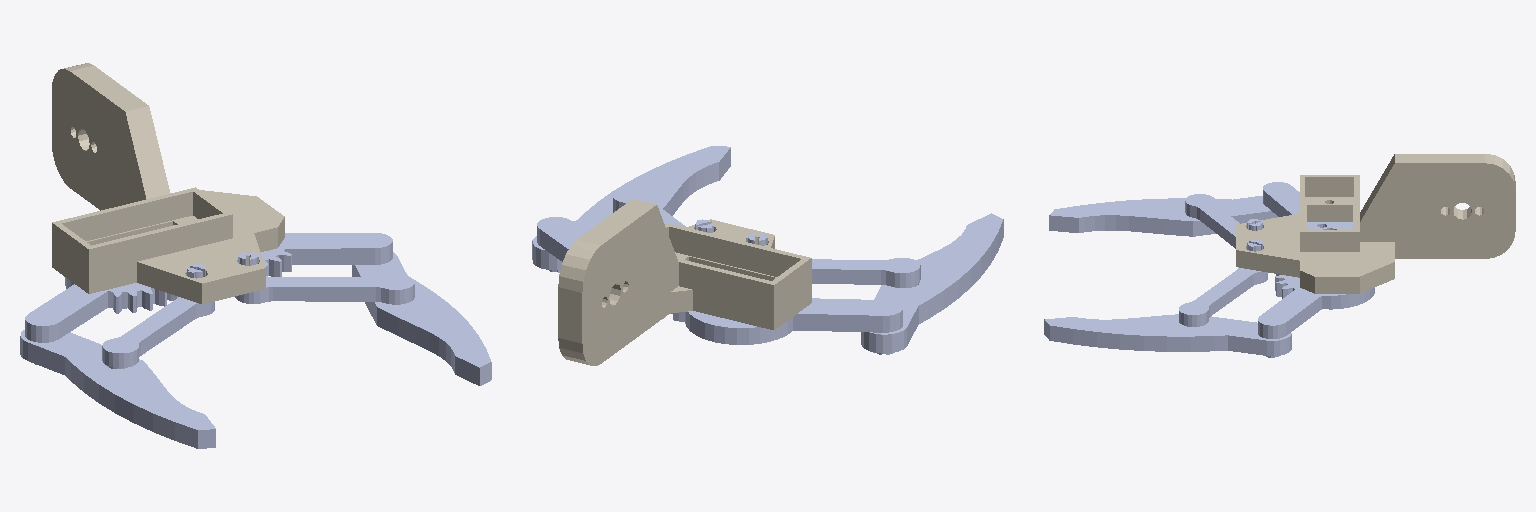
URDF robot description (Gripper_assem_v7):
<?xml version="1.0" encoding="utf-8"?>
<!-- This URDF was automatically created by SolidWorks to URDF Exporter! Originally created by Stephen Brawner (brawner@gmail.com) 
     Commit Version: 1.6.0-4-g7f85cfe  Build Version: 1.6.7995.38578
     For more information, please see http://wiki.ros.org/sw_urdf_exporter -->
<robot
  name="Gripper_assem_v7">
  <link
    name="base_link">
    <inertial>
      <origin
        xyz="0.17406 0.23534 -1.2597"
        rpy="0 0 0" />
      <mass
        value="0.012162" />
      <inertia
        ixx="5.1838E-06"
        ixy="1.0254E-07"
        ixz="-2.032E-08"
        iyy="5.5898E-06"
        iyz="1.0626E-06"
        izz="1.876E-06" />
    </inertial>
    <visual>
      <origin
        xyz="-0.172234 -1.258452 -0.237923"
        rpy="0 0 0" />
      <geometry>
        <mesh
          filename="package://gripper_assem/meshes/base_link.STL" />
      </geometry>
      <material
        name="">
        <color
          rgba="0.84314 0.81569 0.75294 1" />
      </material>
    </visual>
    <collision>
      <origin
        xyz="-0.172234 -1.258452 -0.237923"
        rpy="0 0 0" />
      <geometry>
        <mesh
          filename="package://gripper_assem/meshes/base_link.STL" />
      </geometry>
    </collision>
  </link>
  <link
    name="gear1">
    <inertial>
      <origin
        xyz="0.006641 0.0005846 0.0081483"
        rpy="0 0 0" />
      <mass
        value="0.0026667" />
      <inertia
        ixx="9.174E-08"
        ixy="1.1053E-08"
        ixz="7.8246E-09"
        iyy="4.2757E-07"
        iyz="-1.8973E-10"
        izz="5.0874E-07" />
    </inertial>
    <visual>
      <origin
        xyz="0 0 0"
        rpy="0 0 0" />
      <geometry>
        <mesh
          filename="package://gripper_assem/meshes/gear1.STL" />
      </geometry>
      <material
        name="">
        <color
          rgba="0.79216 0.81961 0.93333 1" />
      </material>
    </visual>
    <collision>
      <origin
        xyz="0 0 0"
        rpy="0 0 0" />
      <geometry>
        <mesh
          filename="package://gripper_assem/meshes/gear1.STL" />
      </geometry>
    </collision>
  </link>
  <joint
    name="joint_gear1"
    type="revolute">
    <origin
      xyz="-0.012944 -0.012152 -0.021133"
      rpy="0 0 3.1006" />
    <parent
      link="base_link" />
    <child
      link="gear1" />
    <axis
      xyz="0 0 1" />
    <limit
      lower="0"
      upper="1.5708"
      effort="0"
      velocity="0" />
  </joint>
  <link
    name="link1_1">
    <inertial>
      <origin
        xyz="0.015308 0.0042304 0.0022567"
        rpy="0 0 0" />
      <mass
        value="0.0027768" />
      <inertia
        ixx="7.2931E-08"
        ixy="-1.5987E-07"
        ixz="2.84E-10"
        iyy="7.3205E-07"
        iyz="7.86E-11"
        izz="7.9563E-07" />
    </inertial>
    <visual>
      <origin
        xyz="0 0 0"
        rpy="0 0 0" />
      <geometry>
        <mesh
          filename="package://gripper_assem/meshes/link1_1.STL" />
      </geometry>
      <material
        name="">
        <color
          rgba="0.79216 0.81961 0.93333 1" />
      </material>
    </visual>
    <collision>
      <origin
        xyz="0 0 0"
        rpy="0 0 0" />
      <geometry>
        <mesh
          filename="package://gripper_assem/meshes/link1_1.STL" />
      </geometry>
    </collision>
  </link>
  <joint
    name="joint1_1"
    type="fixed">
    <origin
      xyz="0.027269 0.010435 0.00627"
      rpy="3.1416 0 1.8927" />
    <parent
      link="gear1" />
    <child
      link="link1_1" />
    <axis
      xyz="0 0 0" />
    <limit
      upper="1.5708"
      effort="0"
      velocity="0" />
  </joint>
  <link
    name="gear2">
    <inertial>
      <origin
        xyz="0.0066685359286241 0.000586717145052207 -0.0081504036158945"
        rpy="0 0 0" />
      <mass
        value="0.00265705477833533" />
      <inertia
        ixx="9.16929842520145E-08"
        ixy="1.10957204200358E-08"
        ixz="-7.89020297069511E-09"
        iyy="4.27265411234701E-07"
        iyz="1.86443538452265E-10"
        izz="5.08406684755342E-07" />
    </inertial>
    <visual>
      <origin
        xyz="0 0 0"
        rpy="0 0 0" />
      <geometry>
        <mesh
          filename="package://gripper_assem/meshes/gear2.STL" />
      </geometry>
      <material
        name="">
        <color
          rgba="0.792156862745098 0.819607843137255 0.933333333333333 1" />
      </material>
    </visual>
    <collision>
      <origin
        xyz="0 0 0"
        rpy="0 0 0" />
      <geometry>
        <mesh
          filename="package://gripper_assem/meshes/gear2.STL" />
      </geometry>
    </collision>
  </link>
  <joint
    name="joint_gear2"
    type="revolute">
    <origin
      xyz="0.014956 -0.012152 -0.021133"
      rpy="-3.1416 0 -0.0067659" />
    <parent
      link="base_link" />
    <child
      link="gear2" />
    <axis
      xyz="0 0 1" />
    <limit
      lower="0"
      upper="1.5708"
      effort="0"
      velocity="0" />
  </joint>
  <link
    name="link1_2">
    <inertial>
      <origin
        xyz="0.0153076680768047 0.00423035267893318 0.00224331795331148"
        rpy="0 0 0" />
      <mass
        value="0.00277680561439334" />
      <inertia
        ixx="7.29309370654585E-08"
        ixy="-1.5986908193294E-07"
        ixz="-2.84065859834213E-10"
        iyy="7.32050804715435E-07"
        iyz="-7.83881830792768E-11"
        izz="7.95628817466588E-07" />
    </inertial>
    <visual>
      <origin
        xyz="0 0 0"
        rpy="0 0 0" />
      <geometry>
        <mesh
          filename="package://gripper_assem/meshes/link1_2.STL" />
      </geometry>
      <material
        name="">
        <color
          rgba="0.792156862745098 0.819607843137255 0.933333333333333 1" />
      </material>
    </visual>
    <collision>
      <origin
        xyz="0 0 0"
        rpy="0 0 0" />
      <geometry>
        <mesh
          filename="package://gripper_assem/meshes/link1_2.STL" />
      </geometry>
    </collision>
  </link>
  <joint
    name="joint1_2"
    type="fixed">
    <origin
      xyz="0.027736 0.010579 -0.00177"
      rpy="-3.1416 0 1.8484" />
    <parent
      link="gear2" />
    <child
      link="link1_2" />
    <axis
      xyz="0 0 0" />
    <limit
      upper="1.5708"
      effort="0"
      velocity="0" />
  </joint>
  <link
    name="link2_1">
    <inertial>
      <origin
        xyz="-0.015651 -3.6751E-06 -0.0080091"
        rpy="0 0 0" />
      <mass
        value="0.00089144" />
      <inertia
        ixx="4.9865E-09"
        ixy="-5.0046E-11"
        ixz="4.7108E-09"
        iyy="1.244E-07"
        iyz="1.4399E-11"
        izz="1.2425E-07" />
    </inertial>
    <visual>
      <origin
        xyz="0 0 0"
        rpy="0 0 0" />
      <geometry>
        <mesh
          filename="package://gripper_assem/meshes/link2_1.STL" />
      </geometry>
      <material
        name="">
        <color
          rgba="0.79216 0.81961 0.93333 1" />
      </material>
    </visual>
    <collision>
      <origin
        xyz="0 0 0"
        rpy="0 0 0" />
      <geometry>
        <mesh
          filename="package://gripper_assem/meshes/link2_1.STL" />
      </geometry>
    </collision>
  </link>
  <joint
    name="joint2_1"
    type="revolute">
    <origin
      xyz="-0.005504 -0.031952 -0.020633"
      rpy="3.1416 0 0.0037796" />
    <parent
      link="base_link" />
    <child
      link="link2_1" />
    <axis
      xyz="0 0 1" />
    <limit
      lower="0"
      upper="1.5708"
      effort="0"
      velocity="0" />
  </joint>
  <link
    name="link2_2">
    <inertial>
      <origin
        xyz="0.016415 4.6962E-05 0.0080309"
        rpy="0 0 0" />
      <mass
        value="0.00089144" />
      <inertia
        ixx="4.9865E-09"
        ixy="-5.0046E-11"
        ixz="4.7108E-09"
        iyy="1.244E-07"
        iyz="1.4399E-11"
        izz="1.2425E-07" />
    </inertial>
    <visual>
      <origin
        xyz="0 0 0"
        rpy="0 0 0" />
      <geometry>
        <mesh
          filename="package://gripper_assem/meshes/link2_2.STL" />
      </geometry>
      <material
        name="">
        <color
          rgba="0.79216 0.81961 0.93333 1" />
      </material>
    </visual>
    <collision>
      <origin
        xyz="0 0 0"
        rpy="0 0 0" />
      <geometry>
        <mesh
          filename="package://gripper_assem/meshes/link2_2.STL" />
      </geometry>
    </collision>
  </link>
  <joint
    name="joint2_2"
    type="revolute">
    <origin
      xyz="0.007496 -0.031952 -0.020633"
      rpy="0 0 -0.048905" />
    <parent
      link="base_link" />
    <child
      link="link2_2" />
    <axis
      xyz="0 0 1" />
    <limit
      lower="0"
      upper="1.5708"
      effort="0"
      velocity="0" />
  </joint>
</robot>

--- What the picture shows (computed from the rendered views, not written in the file) ---
3 views of the same robot in one strip: view 1: azimuth 30°, elevation 25°; view 2: azimuth 150°, elevation 25°; view 3: azimuth 270°, elevation 25° (orthographic).
Model Gripper_assem_v7 with 7 links and 6 joints (4 revolute, 2 fixed), rooted at base_link, posed every joint at zero.
Links seen in each view (by area): view 1: base_link, link1_1, link1_2, link2_2, gear1, gear2, link2_1; view 2: base_link, link1_1, gear1, link1_2, link2_1, gear2, link2_2; view 3: base_link, link1_2, link1_1, gear2, link2_2, link2_1, gear1.
Link boxes in pixels (x1,y1,x2,y2): base_link: (52,63,284,303); link1_1: (20,330,215,448); link1_2: (352,252,491,385); link2_2: (235,252,414,304); gear1: (25,277,177,364); gear2: (261,233,392,276); link2_1: (102,264,214,368); base_link: (558,199,811,365); link1_1: (861,213,1003,353); gear1: (673,298,902,354); link1_2: (532,146,730,270); link2_1: (746,233,920,287); gear2: (537,217,672,318); link2_2: (613,188,713,232); base_link: (1236,154,1515,293); link1_2: (1044,314,1291,355); link1_1: (1049,196,1277,236); gear2: (1258,274,1374,357); link2_2: (1179,239,1267,326); link2_1: (1185,194,1262,248); gear1: (1263,182,1352,229).
Size in the robot's own frame: 0.0922 by 0.1247 by 0.0383 metres.
7 mesh visuals loaded from 7 distinct referenced files (7 binary STL).
